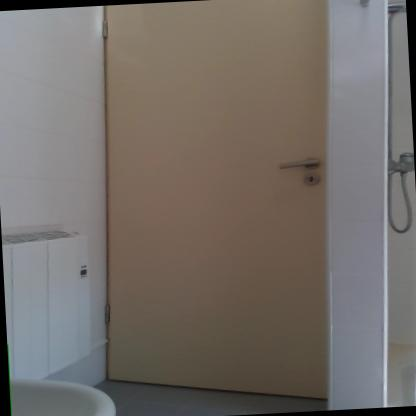closed: (85, 0, 353, 405)
